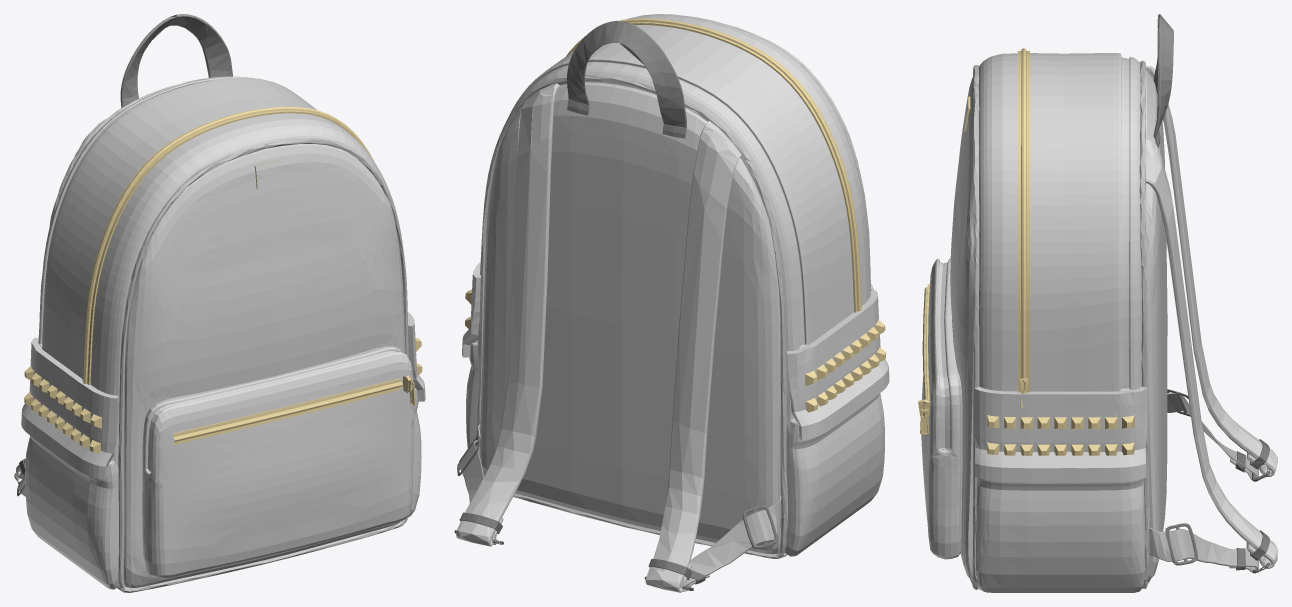
File: mcm_bag.glb
3 renders of one model, left to right at view 1: azimuth 30°, elevation 25°; view 2: azimuth 150°, elevation 25°; view 3: azimuth 270°, elevation 25°, orthographic. The views are drawn at different scales.
Visible parts, largest first — view 1: bag_mesh, side_panel_mesh, round_line_001_mesh, zip_main_mesh, strong_handle_mesh, zip_pocket_mesh, side_studs_mesh, round_line_002_mesh; view 2: bag_mesh, shoulder_strap_001_mesh, shoulder_strap_002_mesh, side_panel_mesh, round_line_002_mesh, strong_handle_mesh, zip_main_mesh, strap_001_mesh, side_studs_mesh, strap_002_mesh, round_line_001_mesh; view 3: bag_mesh, side_panel_mesh, shoulder_strap_002_mesh, shoulder_strap_001_mesh, zip_main_mesh, side_studs_mesh, round_line_002_mesh, round_line_001_mesh, strap_002_mesh, strong_handle_mesh, strap_001_mesh, zip_pocket_mesh.
Part boxes in pixels (x1,y1,x2,y2): bag_mesh: (25,76,421,589); side_panel_mesh: (21,312,425,479); round_line_001_mesh: (118,138,408,592); zip_main_mesh: (82,107,372,384); strong_handle_mesh: (120,14,232,107); zip_pocket_mesh: (173,378,402,444); side_studs_mesh: (24,337,422,453); round_line_002_mesh: (39,76,230,316); bag_mesh: (466,14,884,556); shoulder_strap_001_mesh: (645,121,741,592); shoulder_strap_002_mesh: (456,83,559,546); side_panel_mesh: (462,262,889,440); round_line_002_mesh: (476,74,787,558); strong_handle_mesh: (566,20,686,138); zip_main_mesh: (566,18,861,312); strap_001_mesh: (683,495,781,591); side_studs_mesh: (465,289,886,412); strap_002_mesh: (458,424,496,544); round_line_001_mesh: (732,26,870,290); bag_mesh: (921,53,1167,592); side_panel_mesh: (974,386,1147,482); shoulder_strap_002_mesh: (1146,139,1277,568); shoulder_strap_001_mesh: (1146,66,1277,476); zip_main_mesh: (1017,48,1029,393); side_studs_mesh: (987,415,1134,455); round_line_002_mesh: (1139,60,1150,588); round_line_001_mesh: (970,65,979,589); strap_002_mesh: (1149,527,1258,572); strong_handle_mesh: (1153,14,1173,147); strap_001_mesh: (1167,392,1258,479); zip_pocket_mesh: (922,284,929,403).
Size of the model in its own units: 0.3358 by 0.4521 by 0.2932.
